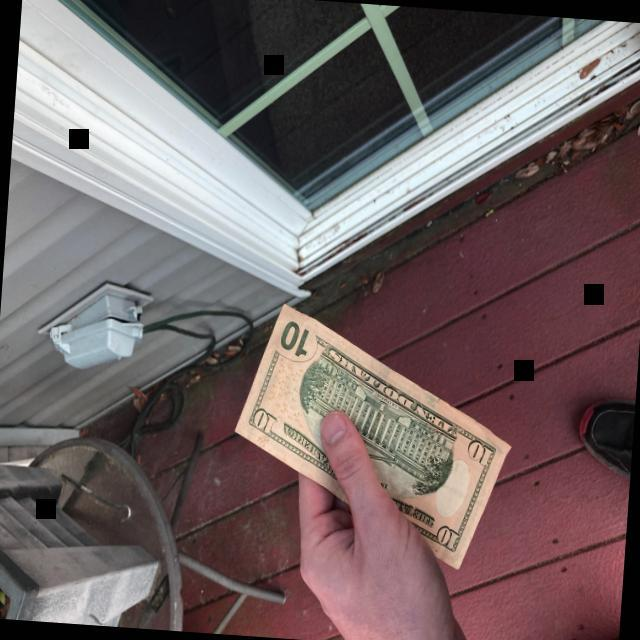ten: (234, 299, 513, 570)
